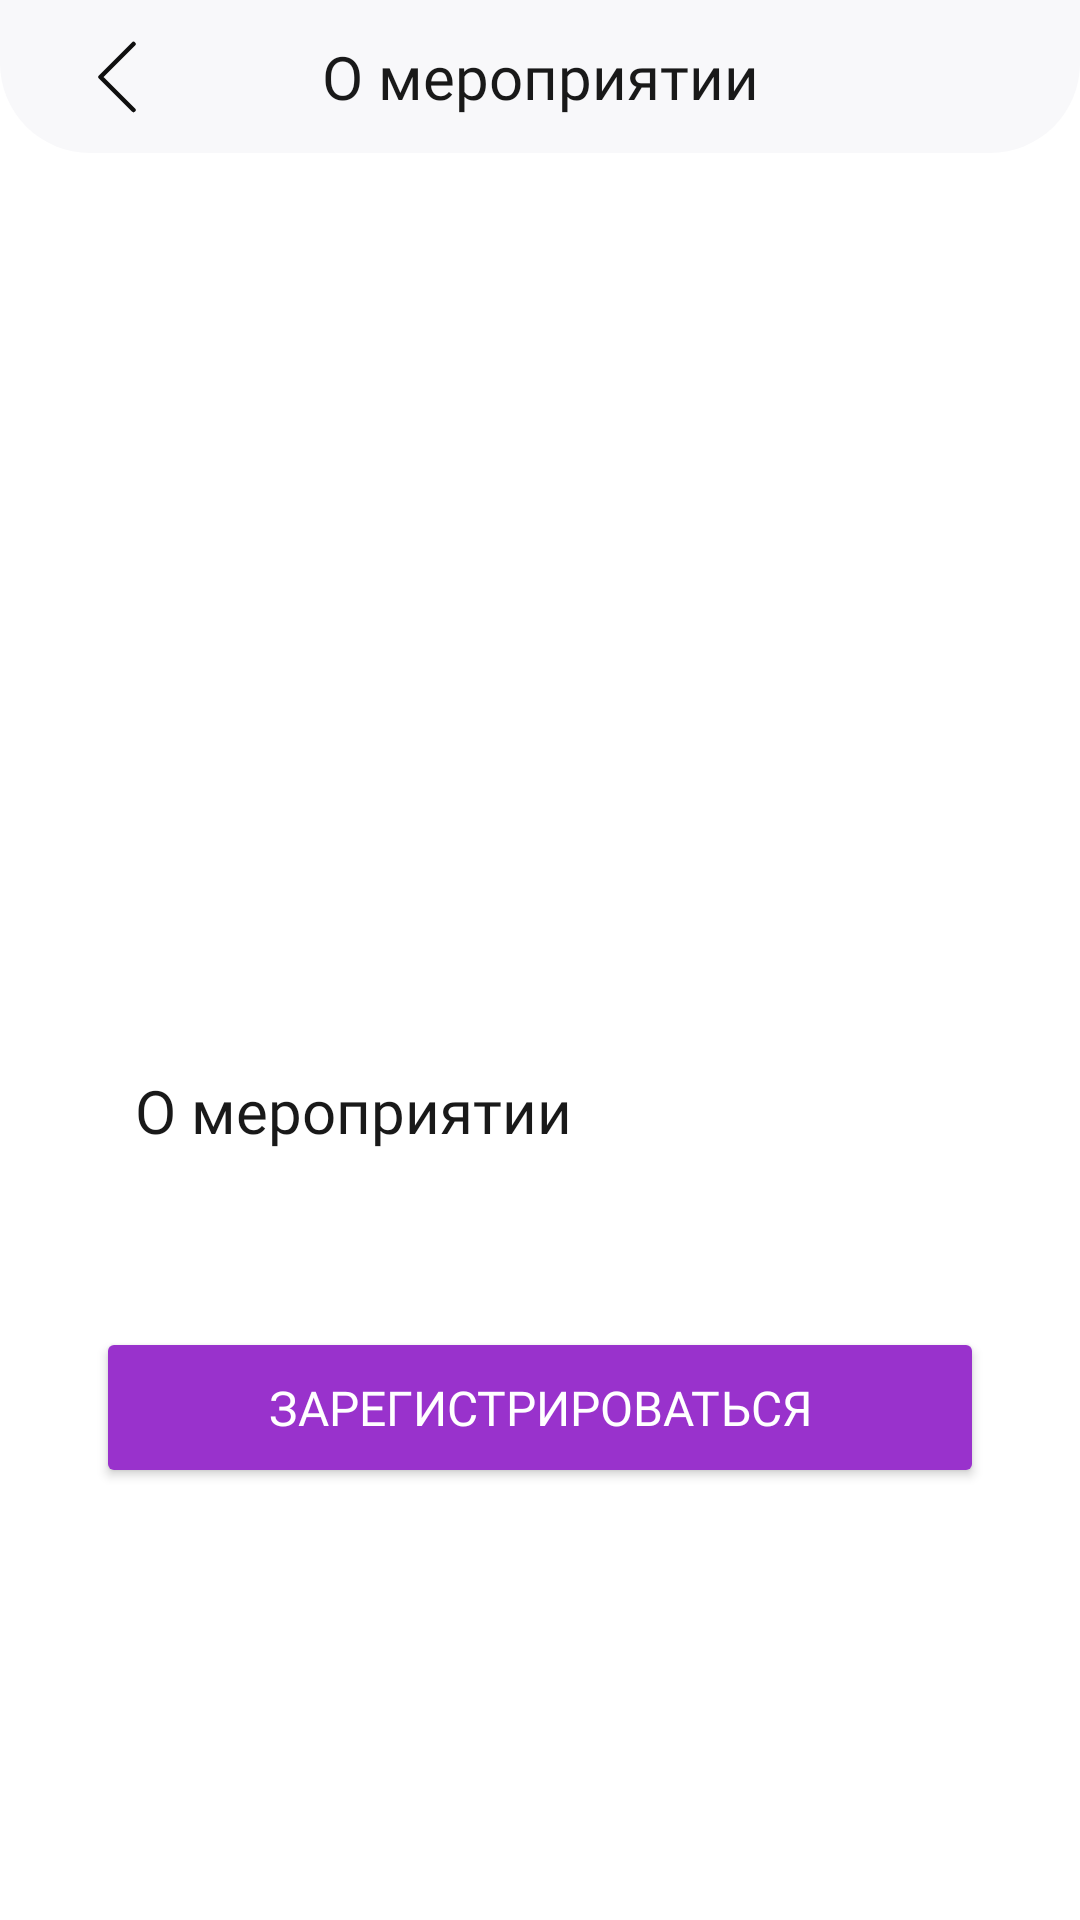

Icon click points for this 1080*1920 phone screenshot, format point (x, y):
back: point (117, 77)
